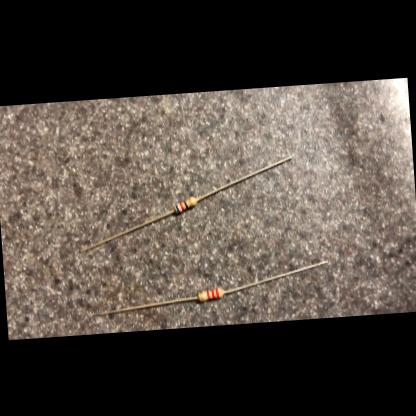resistor: (195, 286, 223, 302), (176, 196, 198, 214)
wire: (194, 154, 294, 200), (79, 208, 176, 252), (222, 259, 330, 292), (92, 294, 197, 315)
